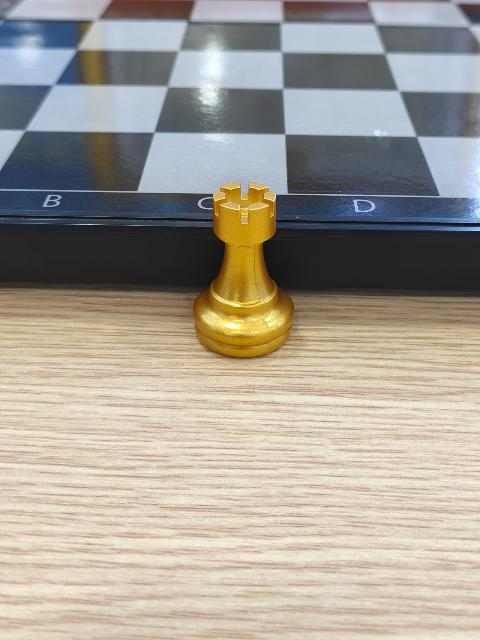black_rook: (190, 180, 299, 359)
